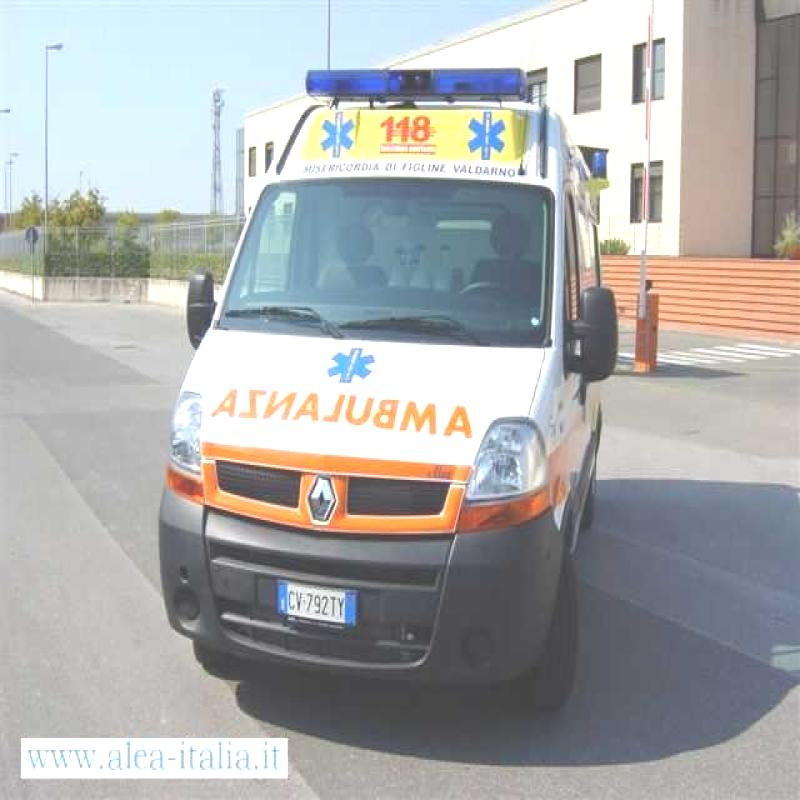AmbulanceSiren: (297, 36, 538, 138)
